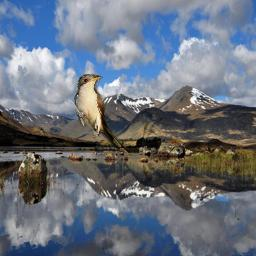Cuckoo: (74, 74, 131, 157)
